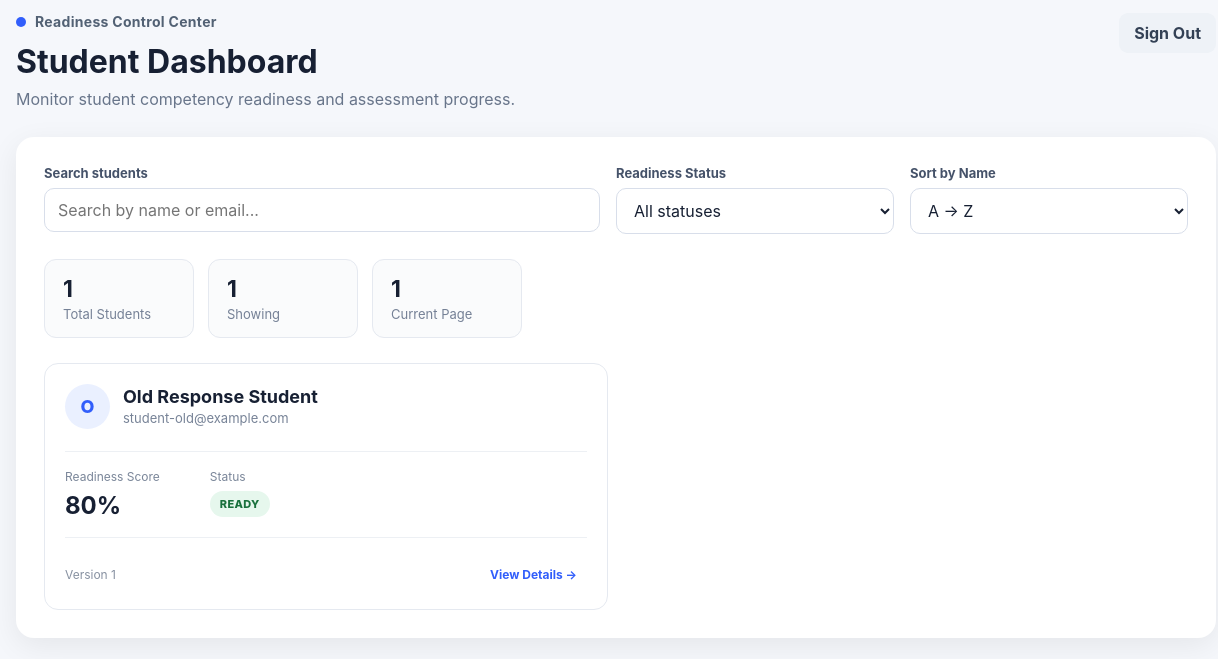
Scenario: Student Readiness Control Center frontend › ignores an out-of-order older student-list response
(page scrolled)
Expected: the heading "Old Response Student" is shown, left=123, top=386, right=318, bottom=407
Type "new" into the field labelled "Search students" at (322, 210), box left=44, top=188, right=600, bottom=232
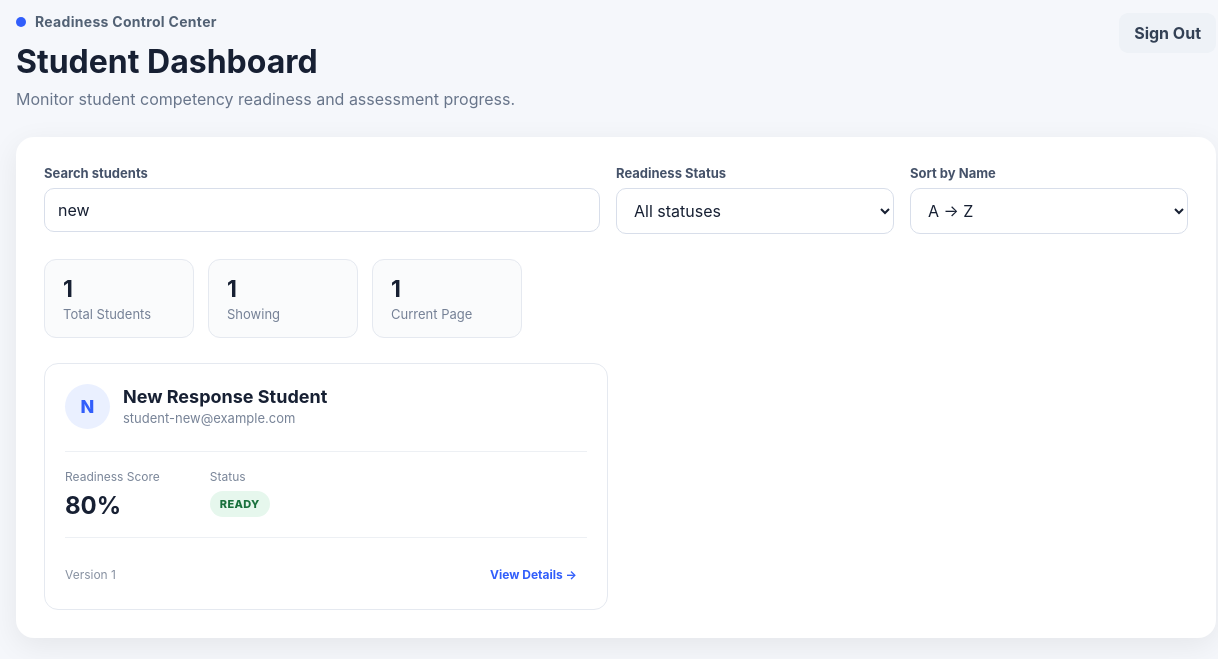
Result: the heading "New Response Student" is shown at left=123, top=386, right=327, bottom=407
Result: the heading "Old Response Student" is gone
